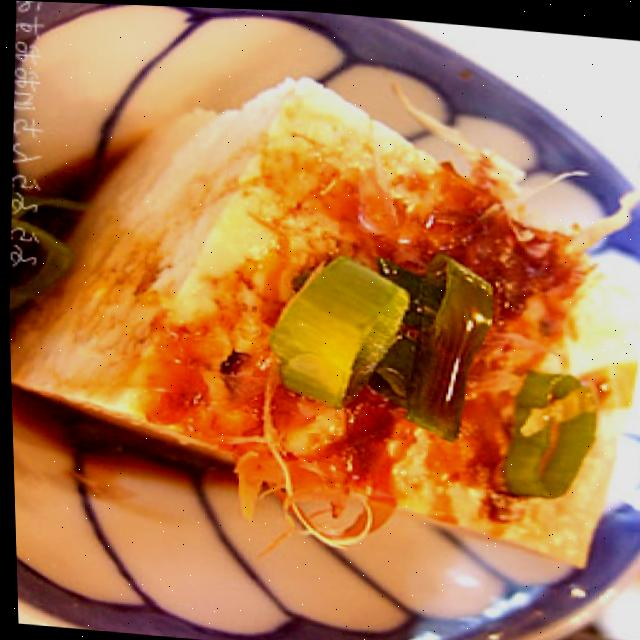豆腐料理: (1, 49, 640, 575)
